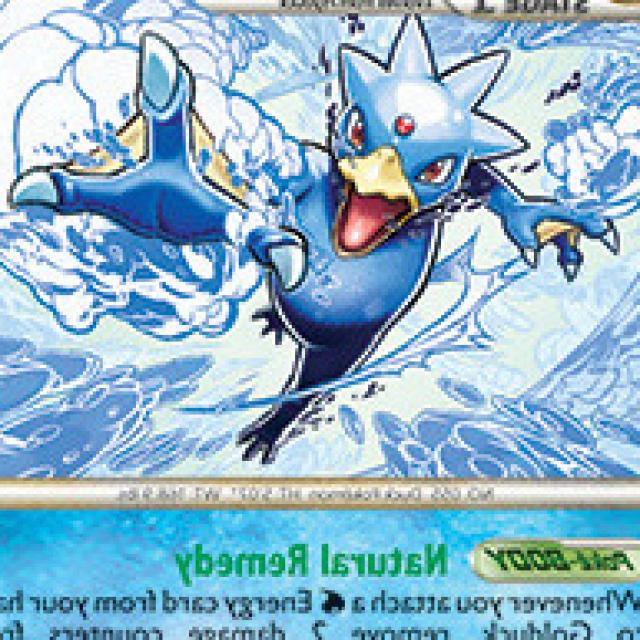Golduck: (136, 27, 542, 453)
